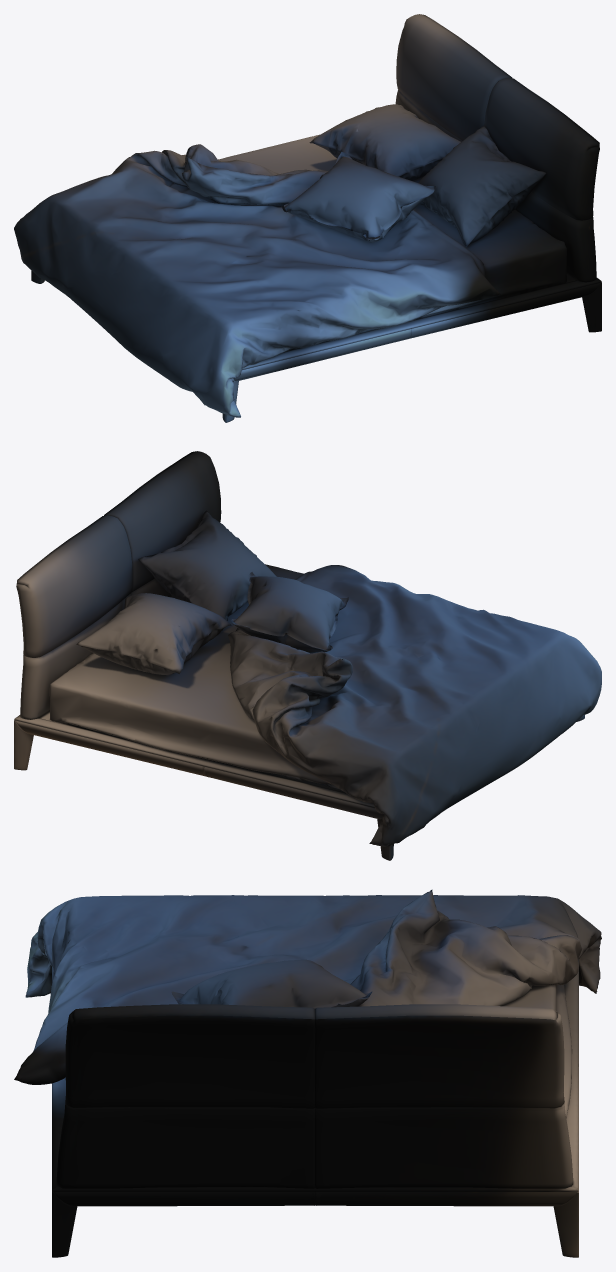
The model's file is Chocofur.free.Beds.002.gltf.
The picture shows the model from 3 angles, top to bottom: view 1: azimuth 30°, elevation 25°; view 2: azimuth 150°, elevation 25°; view 3: azimuth 270°, elevation 25°; orthographic projection. The views are drawn at different scales.
Visible parts, largest first — view 1: Chocofur.free.Beds.002; view 2: Chocofur.free.Beds.002; view 3: Chocofur.free.Beds.002.
Boxes of the visible parts, x1,y1,x2,y2 form: Chocofur.free.Beds.002: (14,14,601,422); Chocofur.free.Beds.002: (14,451,601,860); Chocofur.free.Beds.002: (14,889,601,1257).
Size of the model in its own units: 2.19 by 0.9519 by 2.03.
1 material, 1 textured.
